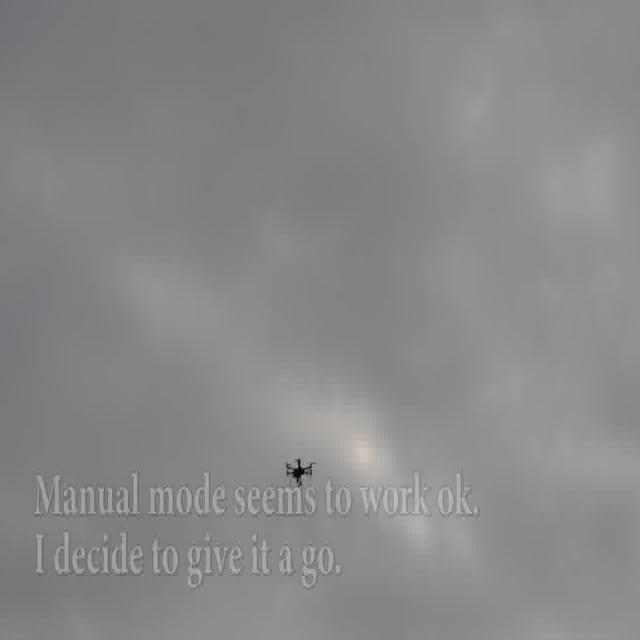Drone_FW: (285, 456, 315, 486)
